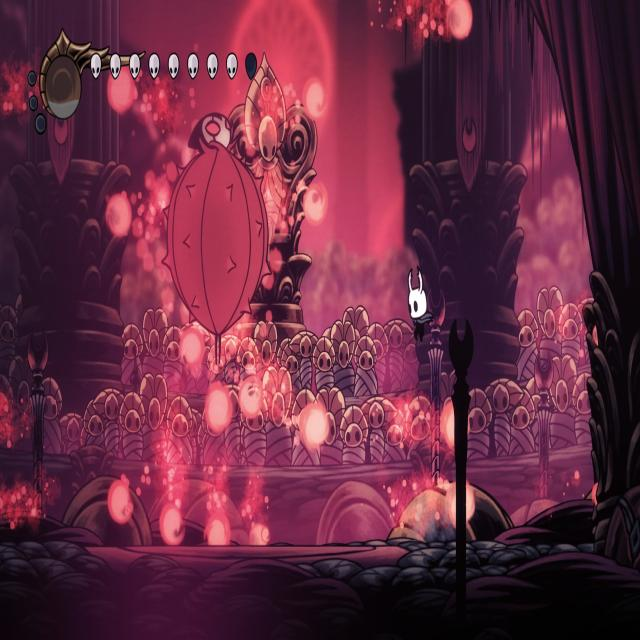Player: (406, 262, 436, 347)
Pufferfish: (159, 108, 276, 369)
Tiny Fireballs: (446, 476, 480, 534), (108, 63, 138, 114), (204, 385, 232, 435), (104, 191, 132, 239), (302, 402, 330, 450), (107, 478, 132, 526), (160, 503, 185, 546), (304, 78, 327, 124), (446, 0, 472, 40), (303, 182, 327, 225), (179, 329, 204, 370), (239, 378, 262, 418), (206, 513, 230, 546), (442, 402, 459, 448)
